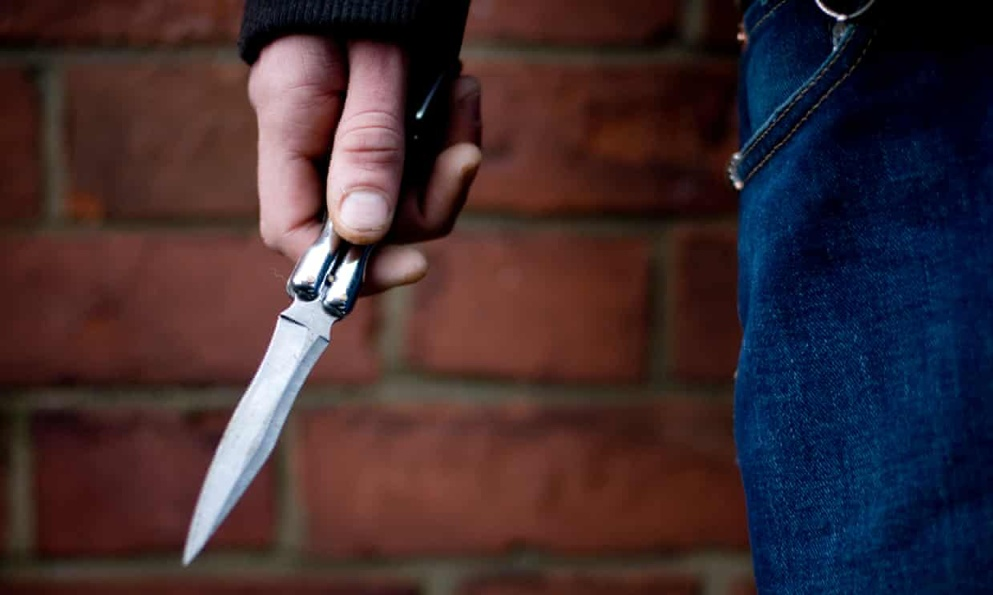knife: (180, 58, 460, 570)
